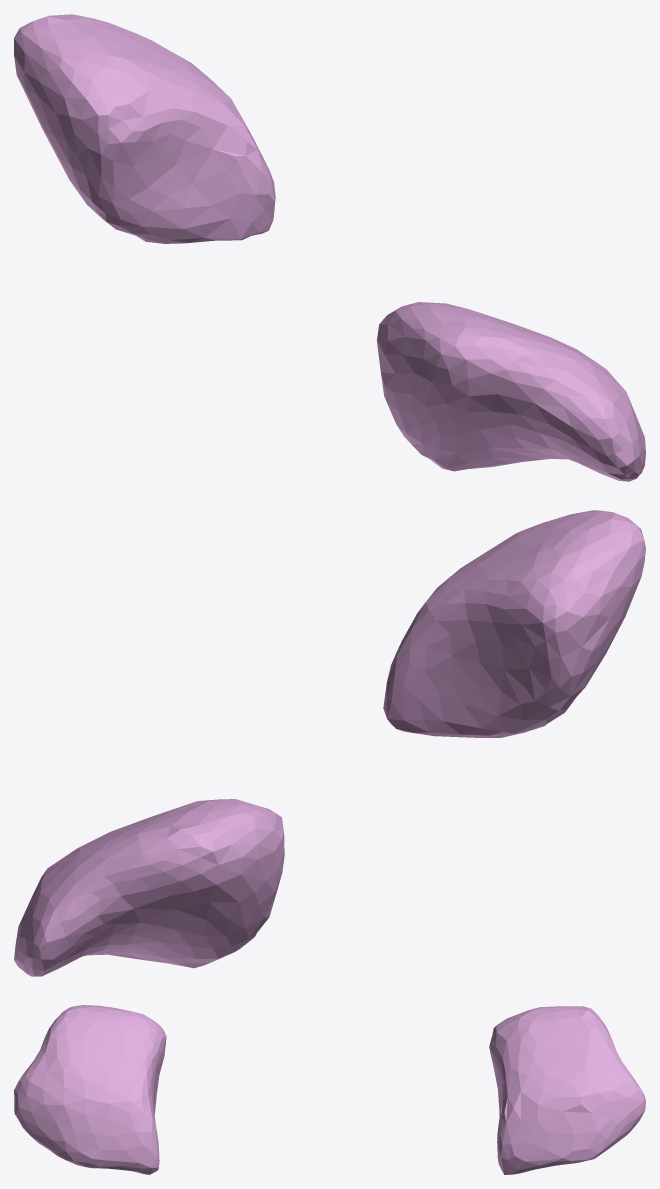
The picture shows the model from 3 angles, top to bottom: view 1: azimuth 30°, elevation 25°; view 2: azimuth 150°, elevation 25°; view 3: azimuth 270°, elevation 25°; orthographic projection. The views are drawn at different scales.
Parts seen in each view (by area): view 1: 616.obj; view 2: 616.obj; view 3: 616.obj.
Boxes of the visible parts, x1,y1,x2,y2 form: 616.obj: [14, 14, 645, 481]; 616.obj: [14, 510, 645, 976]; 616.obj: [14, 1005, 645, 1174].
Size of the model in its own units: 904 by 815 by 3815.
